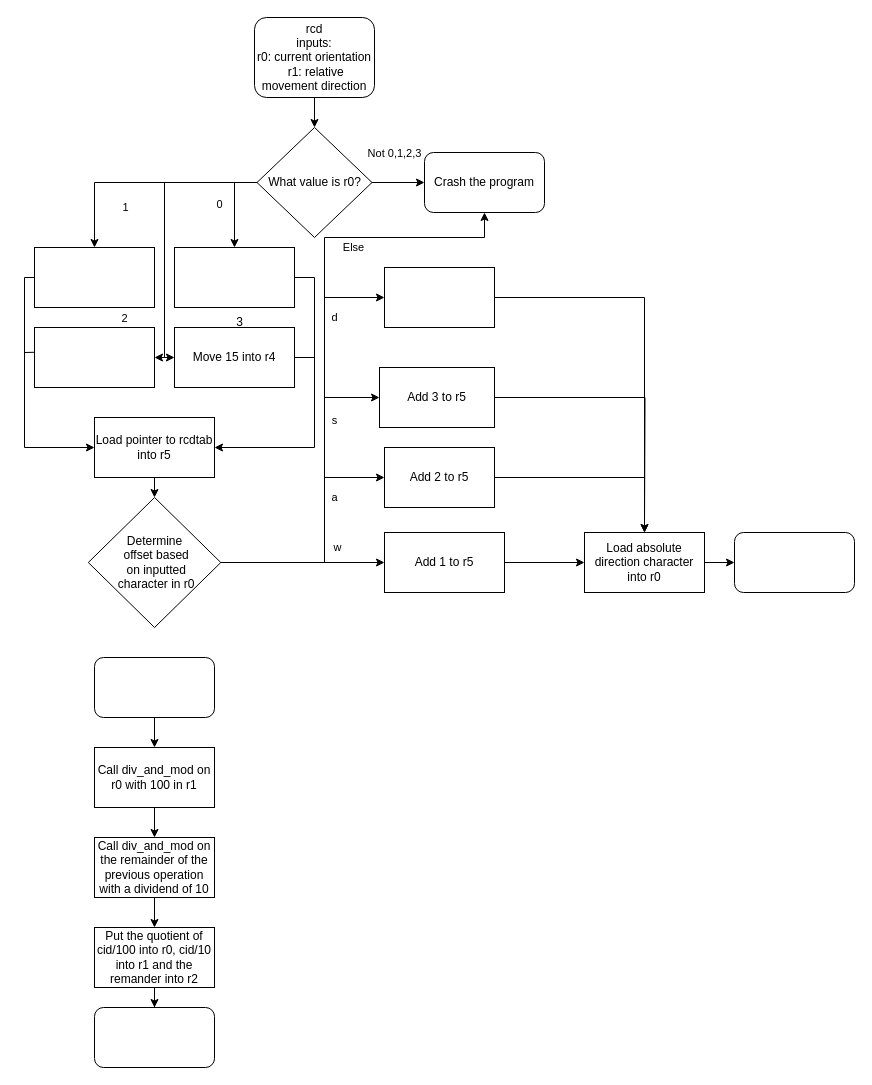
The diagram is 872 pixels wide and 1085 high, and some of its shapes have lost their labels. The box of each missing label's shape, as (x1, y1, x2, y2) in pixels:
Add 4 to r5: (384, 266, 494, 328)
extract_cid inputs: r0: cell ID: (94, 656, 214, 718)
Move 0 into r4: (174, 246, 294, 308)
Move 10 into r4: (34, 326, 154, 388)
Move 5 into r4: (34, 246, 154, 308)
Return r0: (734, 532, 854, 592)
Return r0, r1, and r2: (94, 1006, 214, 1068)
